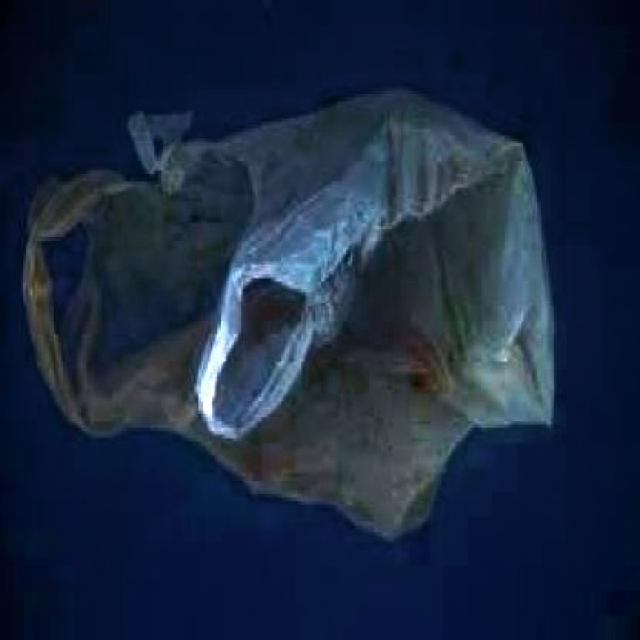pbag: (23, 83, 559, 549)
